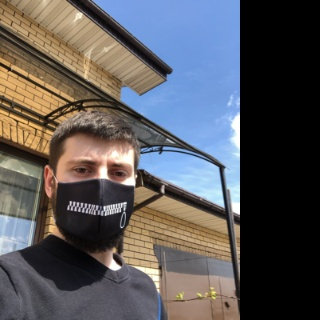with_mask: (52, 151, 137, 252)
